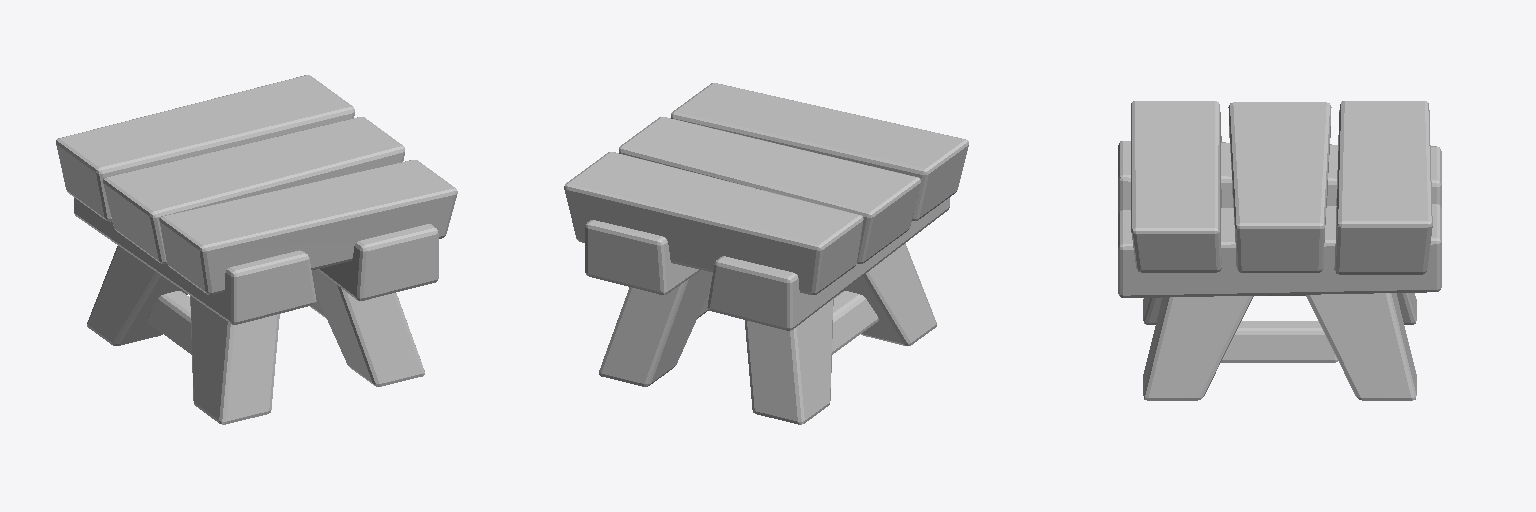
File: tableSmall.obj
The picture shows the model from 3 angles: view 1: azimuth 30°, elevation 25°; view 2: azimuth 150°, elevation 25°; view 3: azimuth 270°, elevation 25°; orthographic projection.
Parts seen in each view (by area): view 1: tableSmall_Cube.2855; view 2: tableSmall_Cube.2855; view 3: tableSmall_Cube.2855.
Part boxes in pixels (bbox=[...]): tableSmall_Cube.2855: bbox=[56, 75, 457, 424]; tableSmall_Cube.2855: bbox=[564, 83, 968, 424]; tableSmall_Cube.2855: bbox=[1118, 101, 1441, 400].
Size of the model in its own units: 0.9977 by 0.7074 by 1.08.